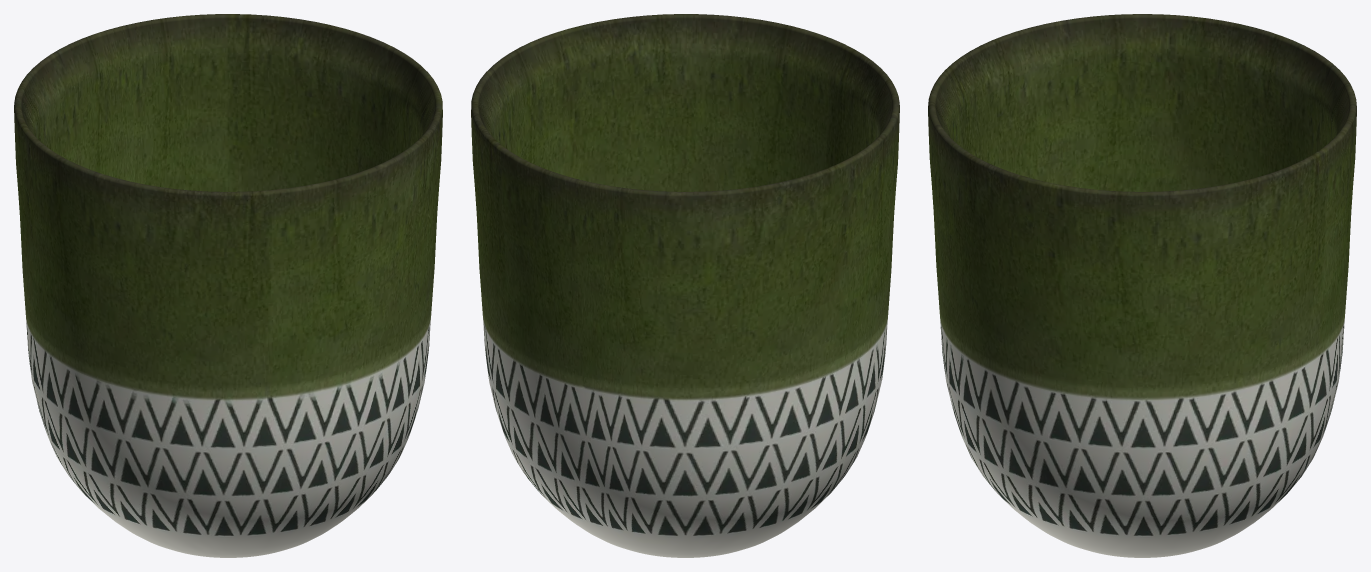
Rendered from abo-B07QHL81NZ.glb.
The picture shows the model from 3 angles, left to right: view 1: azimuth 30°, elevation 25°; view 2: azimuth 150°, elevation 25°; view 3: azimuth 270°, elevation 25°; orthographic projection.
Bounding box in the file's own units: 0.245 × 0.27 × 0.245.
1 material, 1 textured.
